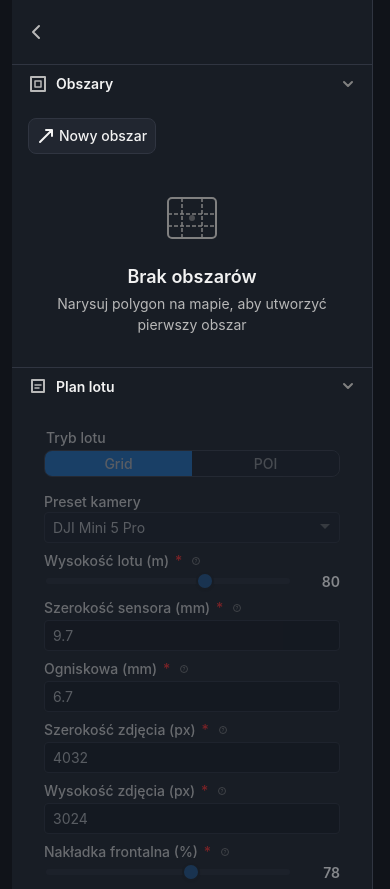
SidePanelComponent › toggle button › should toggle expanded state when clicked
Click the button with class "side-panel__toggle": (36, 32) top-left (20, 16), bottom-right (52, 48)
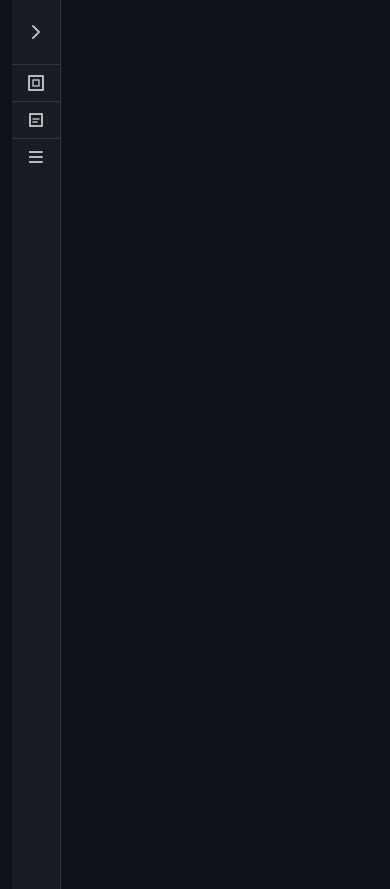
Expected: the button with class "side-panel__toggle" is collapsed, top-left (20, 16), bottom-right (52, 48)
